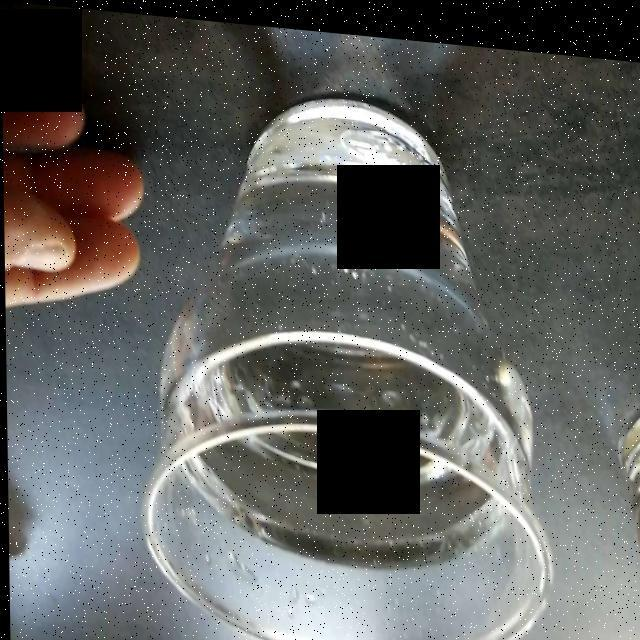water: (163, 109, 523, 542)
